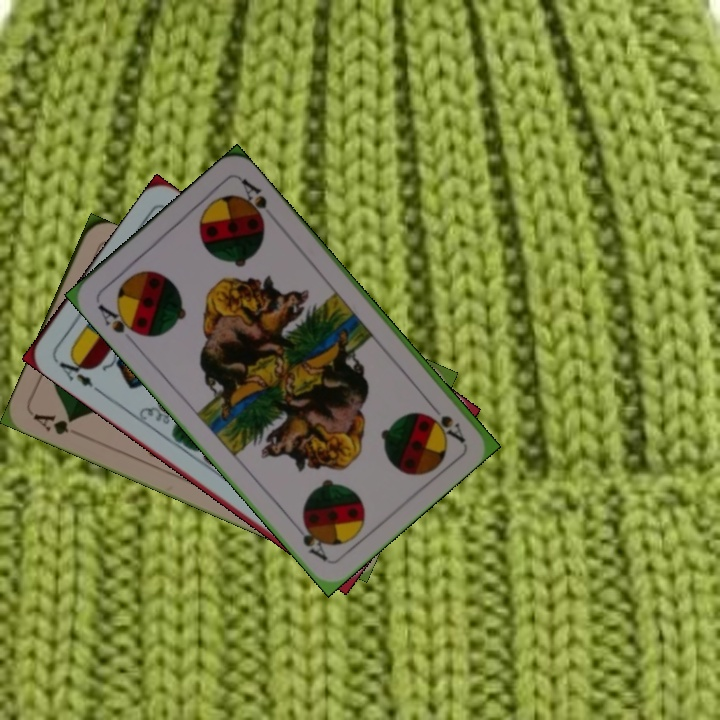EA: (51, 351, 103, 395)
GA: (29, 409, 78, 438)
SA: (423, 396, 467, 445), (93, 300, 145, 339)
